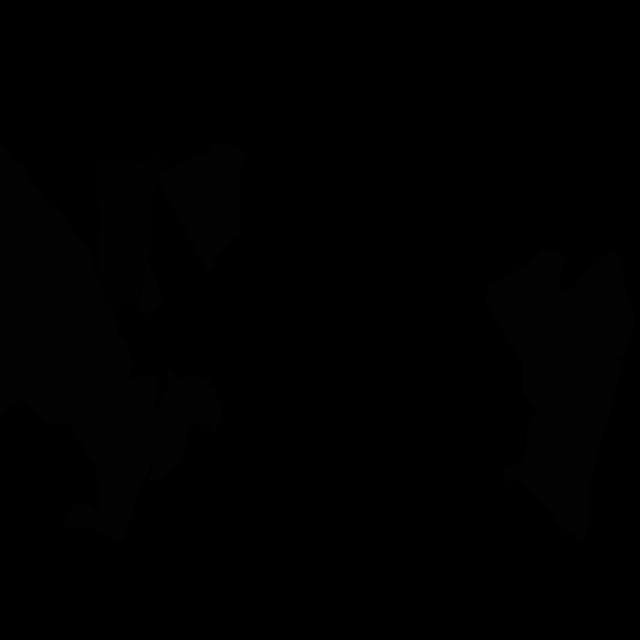cardboard: (0, 143, 134, 506), (485, 248, 636, 543), (63, 374, 157, 541), (160, 144, 244, 272), (149, 368, 222, 480), (138, 262, 163, 316)
rigid_plastic: (96, 156, 167, 309)
